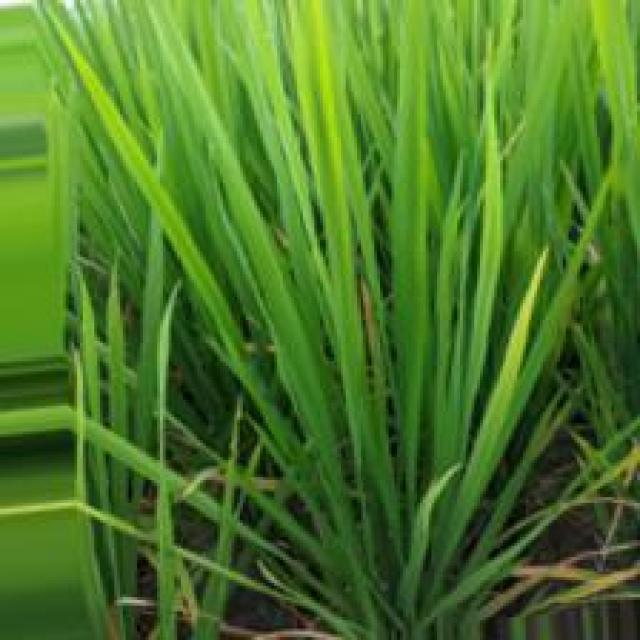HealthyLeaf: (263, 275, 314, 359), (398, 194, 425, 348)
